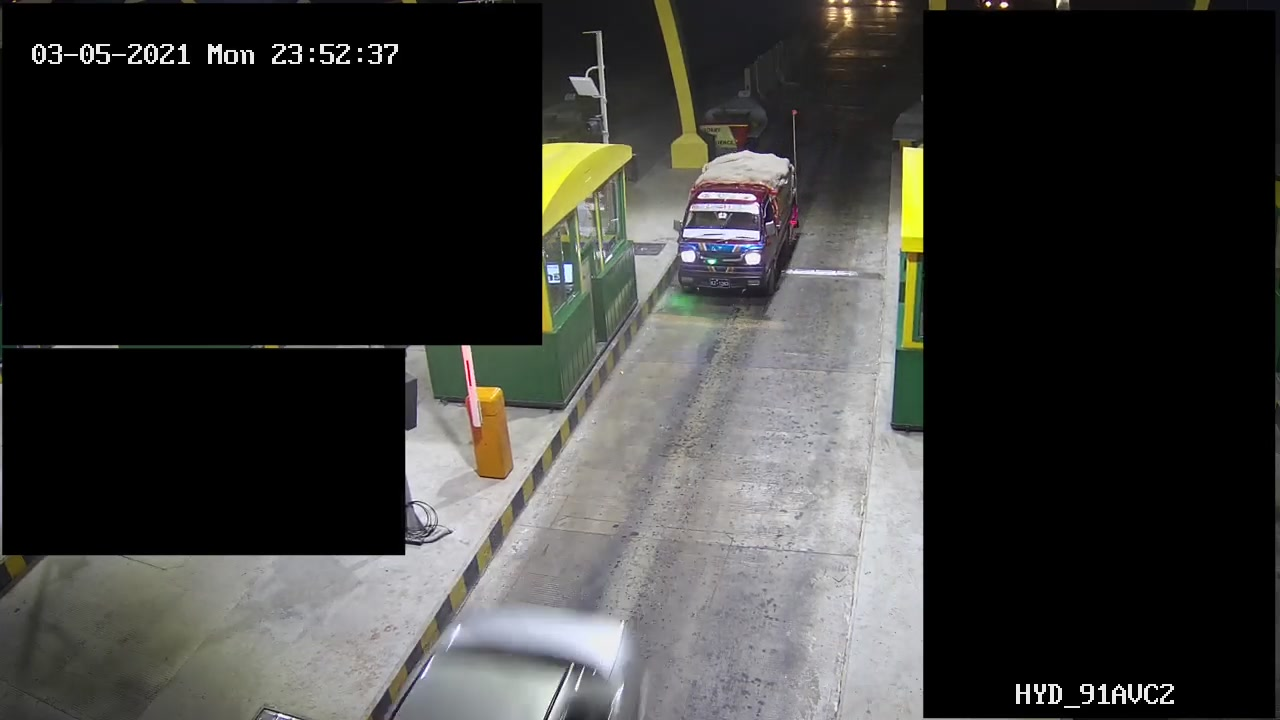F1: (678, 147, 808, 305)
